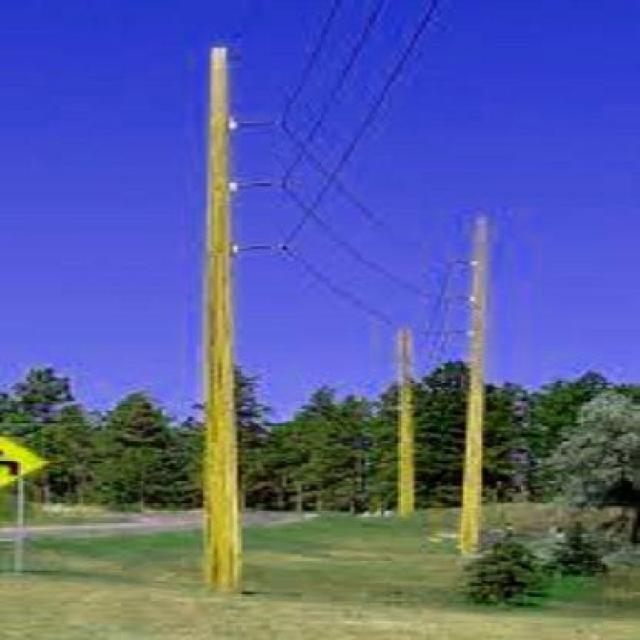pole: (180, 32, 298, 596)
